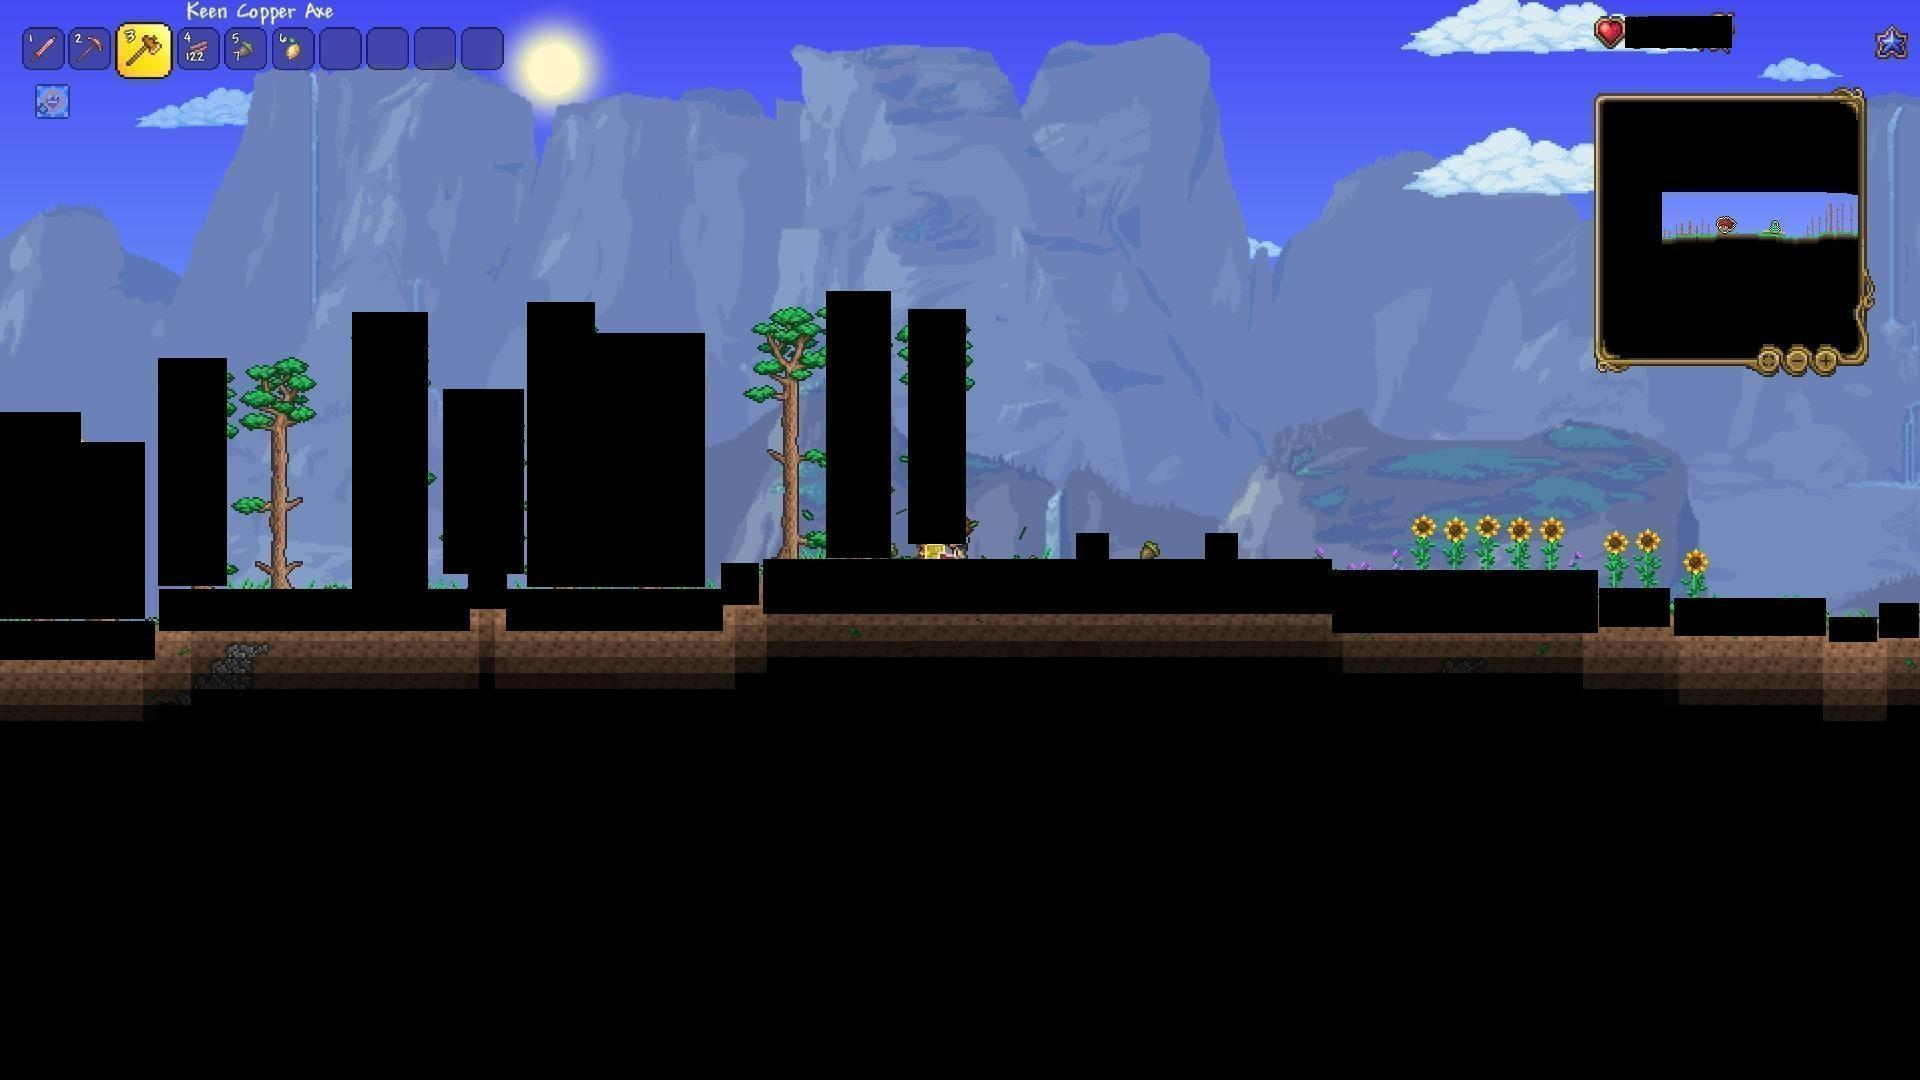heart: (1597, 15, 1629, 45)
tree: (744, 305, 815, 556), (252, 353, 318, 585)
wood: (183, 32, 211, 57)
